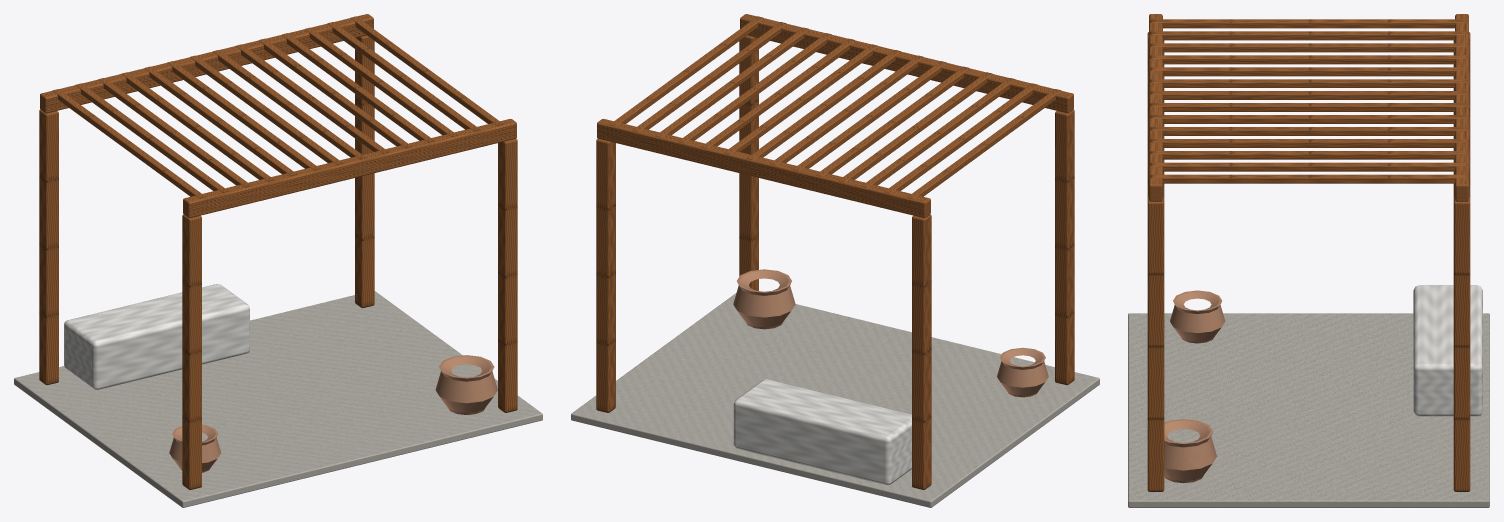
The model's file is greek-island-village-and-harbour-roof-terrace-with-per-a9847509.glb.
3 views of the same model, side by side, from view 1: azimuth 30°, elevation 25°; view 2: azimuth 150°, elevation 25°; view 3: azimuth 270°, elevation 25° (orthographic). The views are drawn at different scales.
Parts seen in each view (by area): view 1: roof-terrace-with-pergola; view 2: roof-terrace-with-pergola; view 3: roof-terrace-with-pergola.
Part boxes in pixels (<box>): roof-terrace-with-pergola: <box>14,14,542,507</box>; roof-terrace-with-pergola: <box>571,14,1099,507</box>; roof-terrace-with-pergola: <box>1128,14,1489,507</box>.
Bounding box in the file's own units: 3.2 × 2.51 × 2.6.
Materials: 4 (4 with a texture image).
